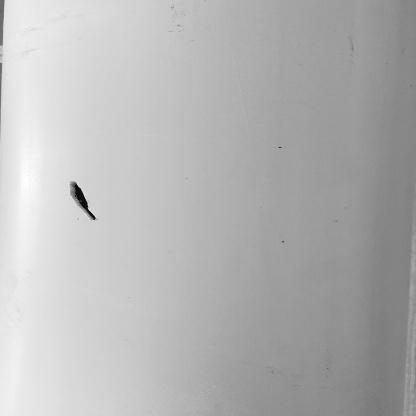kongdong: (57, 171, 99, 221)
